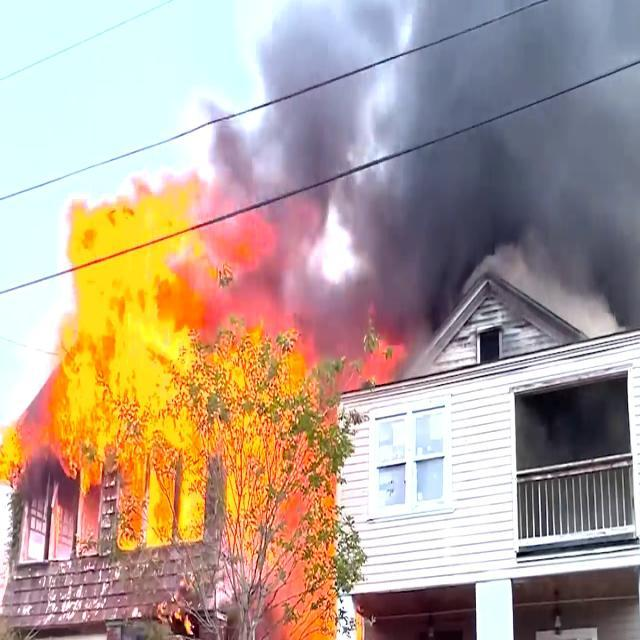Fire: (46, 190, 208, 524), (218, 317, 324, 640), (1, 419, 20, 494)
Smoke: (240, 0, 640, 267)
